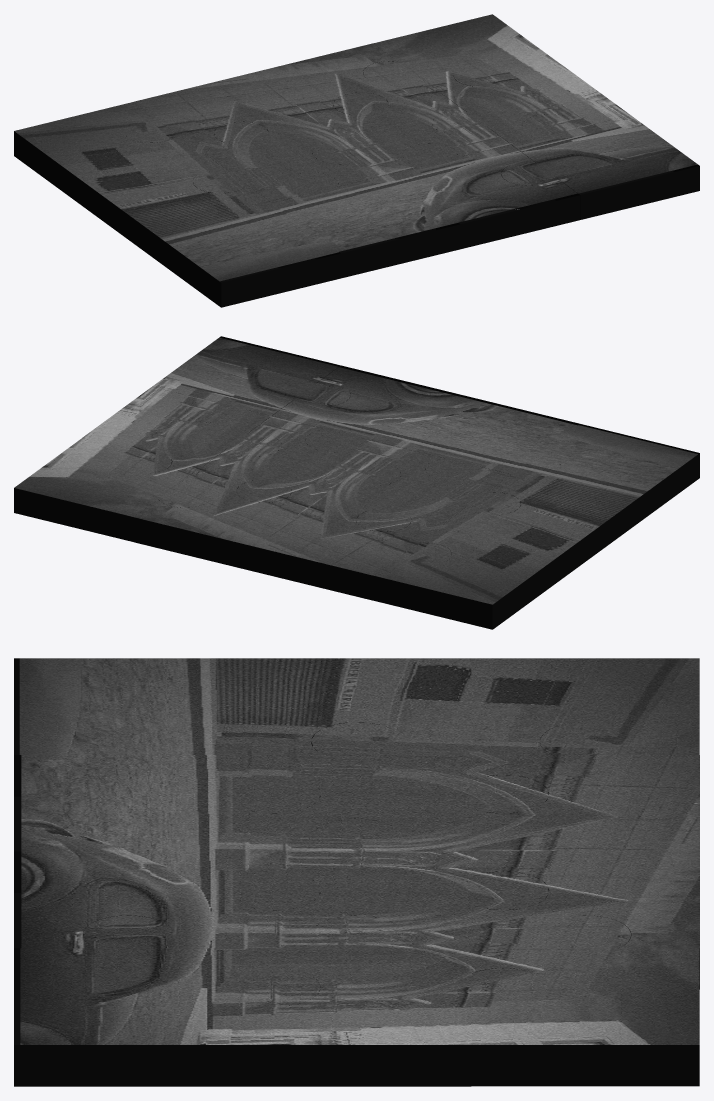
The model's file is Puuzzle PAE_Final(4x3)_1_Low.fbx.
The picture shows the model from 3 angles, top to bottom: view 1: azimuth 30°, elevation 25°; view 2: azimuth 150°, elevation 25°; view 3: azimuth 270°, elevation 25°; orthographic projection. The views are drawn at different scales.
Parts seen in each view (by area): view 1: Puzle 2_Pieza_12, Puzle 2_Pieza_9, Puzle 2_Pieza_10, Puzle 2_Pieza_11, Puzle 2_Pieza_8, Puzle 2_Pieza_5, Puzle 2_Pieza_6, Puzle 2_Pieza_7, Puzle 2_Pieza_4, Puzle 2_Pieza_1, Puzle 2_Pieza_3, Puzle 2_Pieza_2; view 2: Puzle 2_Pieza_4, Puzle 2_Pieza_1, Puzle 2_Pieza_3, Puzle 2_Pieza_2, Puzle 2_Pieza_12, Puzle 2_Pieza_9, Puzle 2_Pieza_10, Puzle 2_Pieza_11, Puzle 2_Pieza_8, Puzle 2_Pieza_5, Puzle 2_Pieza_6, Puzle 2_Pieza_7; view 3: Puzle 2_Pieza_12, Puzle 2_Pieza_8, Puzle 2_Pieza_4, Puzle 2_Pieza_11, Puzle 2_Pieza_10, Puzle 2_Pieza_9, Puzle 2_Pieza_7, Puzle 2_Pieza_6, Puzle 2_Pieza_3, Puzle 2_Pieza_5, Puzle 2_Pieza_2, Puzle 2_Pieza_1.
Part boxes in pixels (x1,y1,x2,y2): Puzle 2_Pieza_12: (501,114,699,219); Puzle 2_Pieza_9: (152,201,340,307); Puzle 2_Pieza_10: (262,172,460,278); Puzle 2_Pieza_11: (381,143,579,248); Puzle 2_Pieza_8: (432,63,630,154); Puzle 2_Pieza_5: (83,151,271,256); Puzle 2_Pieza_6: (193,121,390,202); Puzle 2_Pieza_7: (313,92,510,183); Puzle 2_Pieza_4: (363,14,561,99); Puzle 2_Pieza_1: (14,102,202,206); Puzle 2_Pieza_3: (243,43,441,129); Puzle 2_Pieza_2: (123,72,321,152); Puzle 2_Pieza_4: (14,437,212,541); Puzle 2_Pieza_1: (373,525,561,629); Puzle 2_Pieza_3: (133,466,331,571); Puzle 2_Pieza_2: (253,496,451,600); Puzle 2_Pieza_12: (152,336,350,422); Puzle 2_Pieza_9: (511,424,699,528); Puzle 2_Pieza_10: (392,394,589,481); Puzle 2_Pieza_11: (272,365,470,452); Puzle 2_Pieza_8: (83,387,281,473); Puzle 2_Pieza_5: (442,474,630,578); Puzle 2_Pieza_6: (322,445,520,531); Puzle 2_Pieza_7: (203,416,400,502); Puzle 2_Pieza_12: (14,915,320,1086); Puzle 2_Pieza_8: (242,915,548,1086); Puzle 2_Pieza_4: (471,915,699,1086); Puzle 2_Pieza_11: (14,818,320,948); Puzle 2_Pieza_10: (14,722,320,851); Puzle 2_Pieza_9: (14,658,320,796); Puzle 2_Pieza_7: (242,819,548,948); Puzle 2_Pieza_6: (242,722,548,885); Puzle 2_Pieza_3: (471,818,699,989); Puzle 2_Pieza_5: (242,658,548,754); Puzle 2_Pieza_2: (471,722,699,890); Puzle 2_Pieza_1: (471,658,699,754).
Bounding box in the file's own units: 4002 × 200 × 3001.
Materials: 1 (1 with a texture image).
